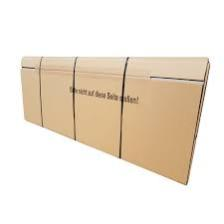cardboard: (11, 41, 210, 191)
